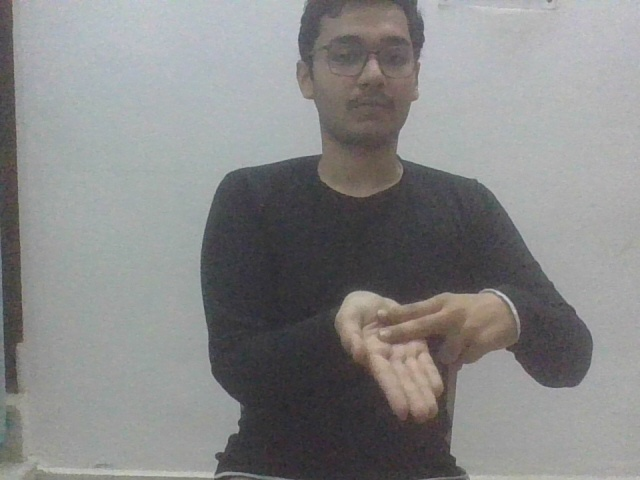N: (330, 287, 525, 424)
